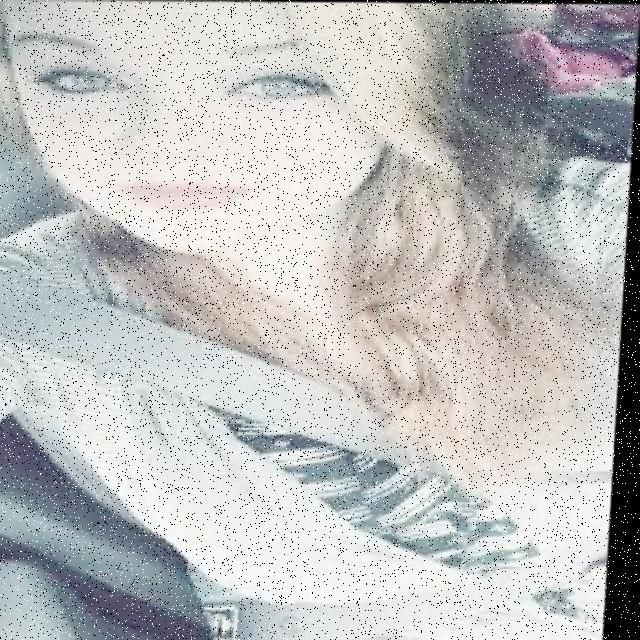seatbelt: (0, 186, 531, 494)
